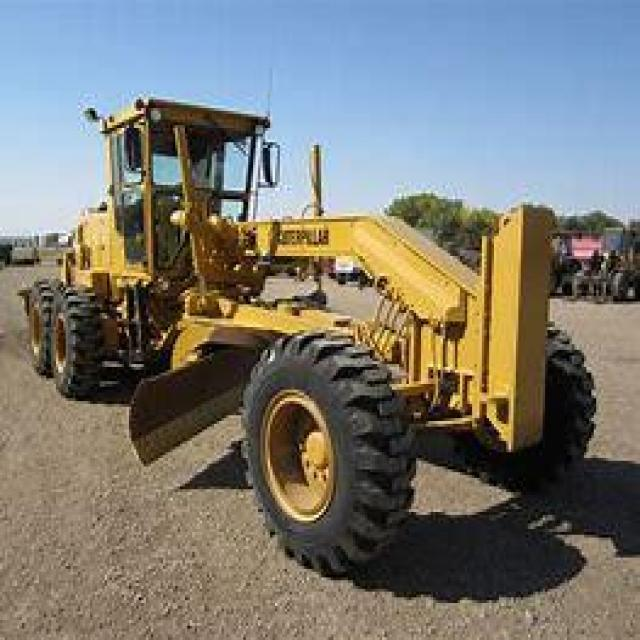Grader: (27, 71, 603, 575)
